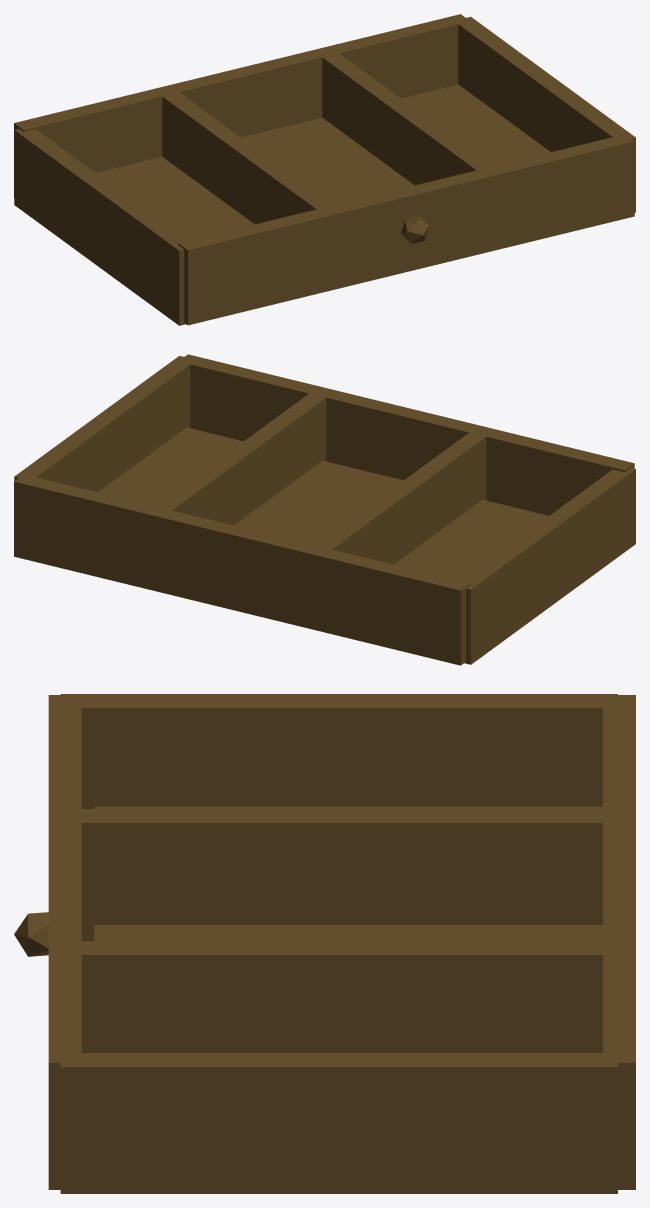
File: drawer_solo.fbx
The picture shows the model from 3 angles, top to bottom: view 1: azimuth 30°, elevation 25°; view 2: azimuth 150°, elevation 25°; view 3: azimuth 270°, elevation 25°; orthographic projection. The views are drawn at different scales.
Visible parts, largest first — view 1: drawer; view 2: drawer; view 3: drawer.
Boxes of the visible parts, x1,y1,x2,y2 form: drawer: (14, 14, 635, 325); drawer: (14, 354, 635, 665); drawer: (14, 694, 635, 1193).
Bounding box in the file's own units: 602 × 96.88 × 420.
